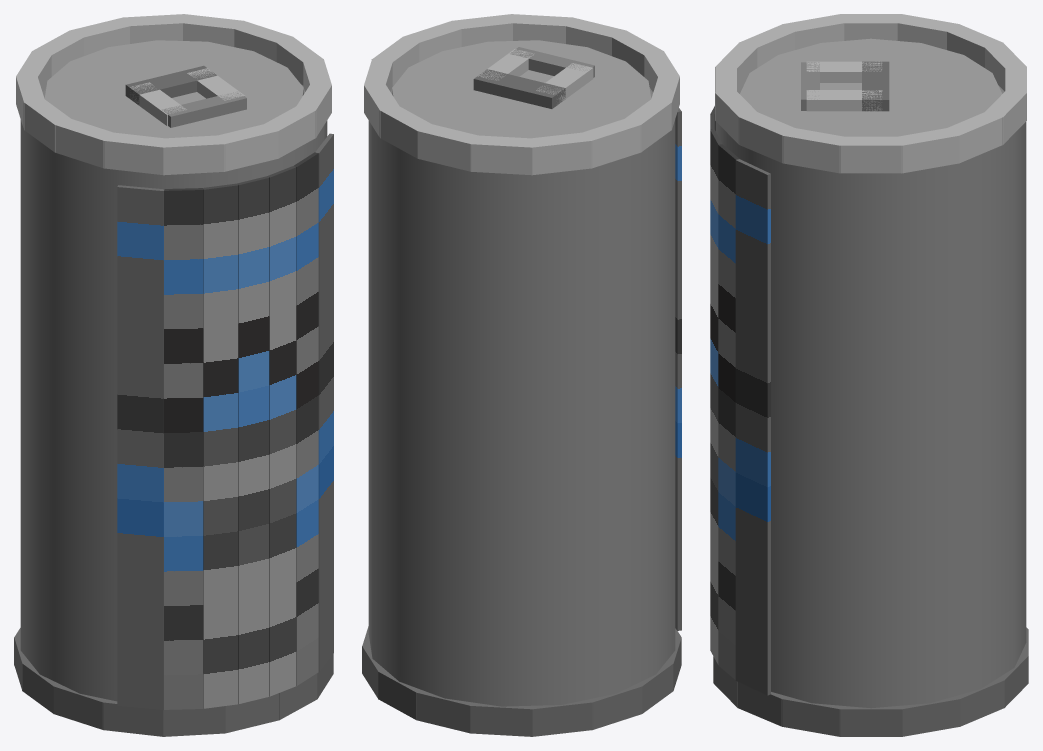
Rendered from CMU3DBobdaBlueCloud.glb.
The picture shows the model from 3 angles, left to right: view 1: azimuth 30°, elevation 25°; view 2: azimuth 150°, elevation 25°; view 3: azimuth 270°, elevation 25°; orthographic projection.
Parts seen in each view (by area): view 1: closed aluminium can body, original printed label strip 1, original printed label strip 2, original printed label strip 3, original printed label strip 4, recessed aluminium lid, original printed label strip 5, original printed label strip 6, original printed label strip 7, raised upper rim 12, raised upper rim 11, raised upper rim 13 (+23 smaller); view 2: closed aluminium can body, recessed aluminium lid, original printed label strip 1, raised upper rim 06, raised upper rim 07, pull tab rear bridge, raised upper rim 05, raised upper rim 08, rolled bottom seam 06, rolled bottom seam 07, rolled bottom seam 05, raised upper rim 04 (+18 smaller); view 3: closed aluminium can body, original printed label strip 7, recessed aluminium lid, original printed label strip 6, original printed label strip 5, raised upper rim 01, raised upper rim 16, raised upper rim 02, rolled bottom seam 01, raised upper rim 15, rolled bottom seam 16, raised upper rim 03 (+20 smaller).
Boxes of the visible parts, x1,y1,x2,y2 form: closed aluminium can body: [20, 84, 327, 701]; original printed label strip 1: [117, 185, 164, 709]; original printed label strip 2: [164, 188, 203, 709]; original printed label strip 3: [203, 183, 238, 708]; original printed label strip 4: [237, 176, 269, 703]; recessed aluminium lid: [44, 40, 303, 138]; original printed label strip 5: [267, 166, 296, 696]; original printed label strip 6: [294, 152, 318, 685]; original printed label strip 7: [315, 133, 333, 671]; raised upper rim 12: [161, 135, 225, 175]; raised upper rim 11: [103, 132, 168, 174]; raised upper rim 13: [214, 123, 278, 171]; closed aluminium can body: [368, 84, 675, 706]; recessed aluminium lid: [392, 40, 651, 138]; original printed label strip 1: [675, 108, 681, 630]; raised upper rim 06: [470, 135, 535, 175]; raised upper rim 07: [532, 132, 592, 175]; pull tab rear bridge: [473, 69, 565, 108]; raised upper rim 05: [417, 124, 481, 171]; raised upper rim 08: [584, 117, 641, 168]; rolled bottom seam 06: [470, 703, 533, 736]; rolled bottom seam 07: [530, 700, 593, 736]; rolled bottom seam 05: [416, 689, 474, 733]; raised upper rim 04: [379, 106, 434, 158]; closed aluminium can body: [716, 85, 1026, 708]; original printed label strip 7: [735, 159, 770, 695]; recessed aluminium lid: [740, 38, 1002, 136]; original printed label strip 6: [718, 144, 739, 679]; original printed label strip 5: [710, 129, 722, 664]; raised upper rim 01: [839, 136, 902, 173]; raised upper rim 16: [782, 127, 846, 173]; raised upper rim 02: [894, 127, 959, 173]; rolled bottom seam 01: [839, 705, 902, 736]; raised upper rim 15: [738, 111, 797, 163]; rolled bottom seam 16: [781, 696, 840, 736]; raised upper rim 03: [944, 110, 1003, 163].
Size of what is drawn, in the model's own units: 0.2783 by 0.575 by 0.2812.
11 materials, 7 textured.
